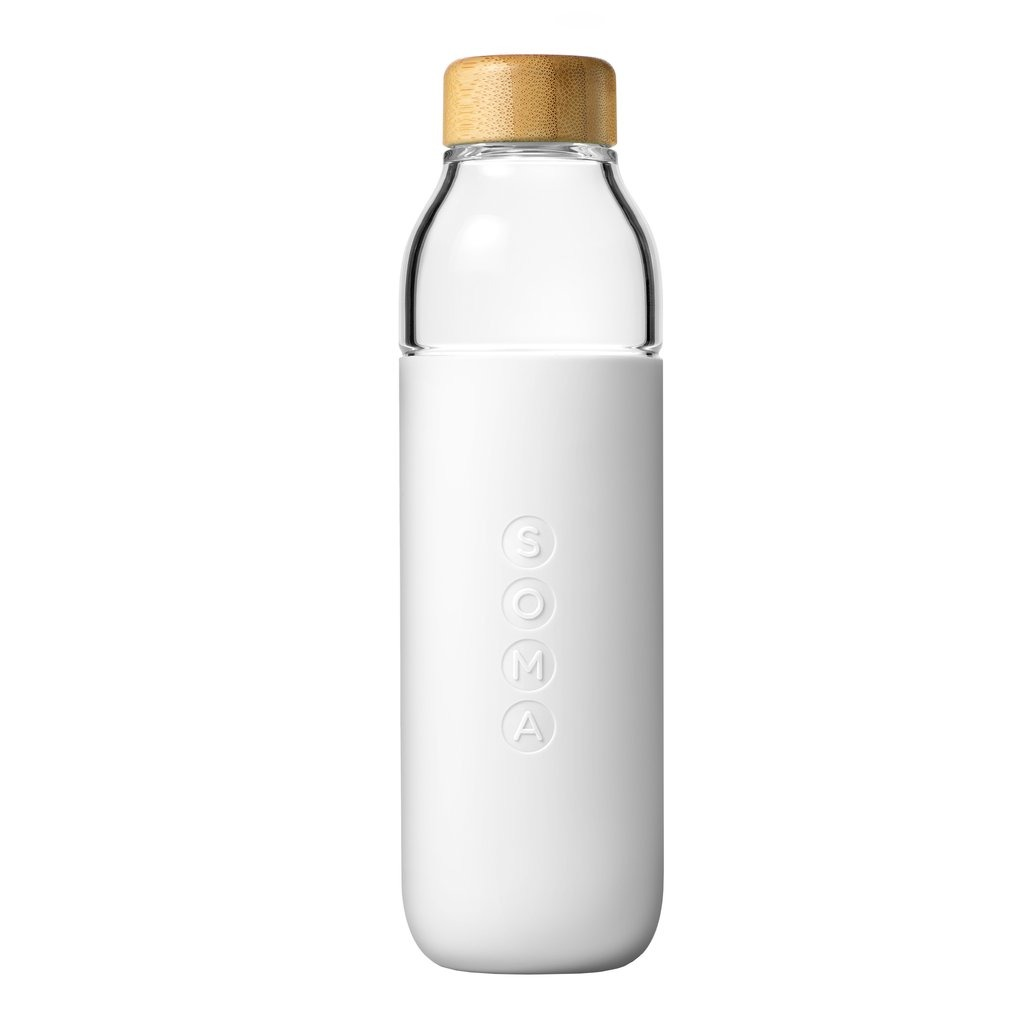container: (388, 41, 684, 986)
